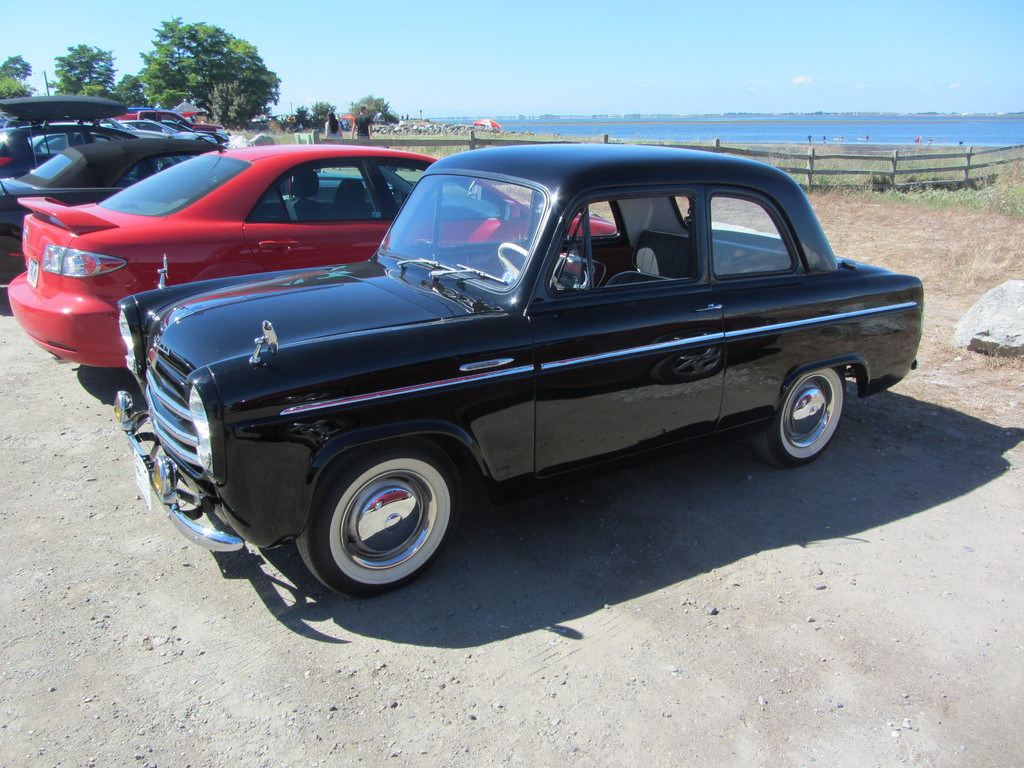mobil: (109, 104, 999, 583), (16, 112, 434, 321)
